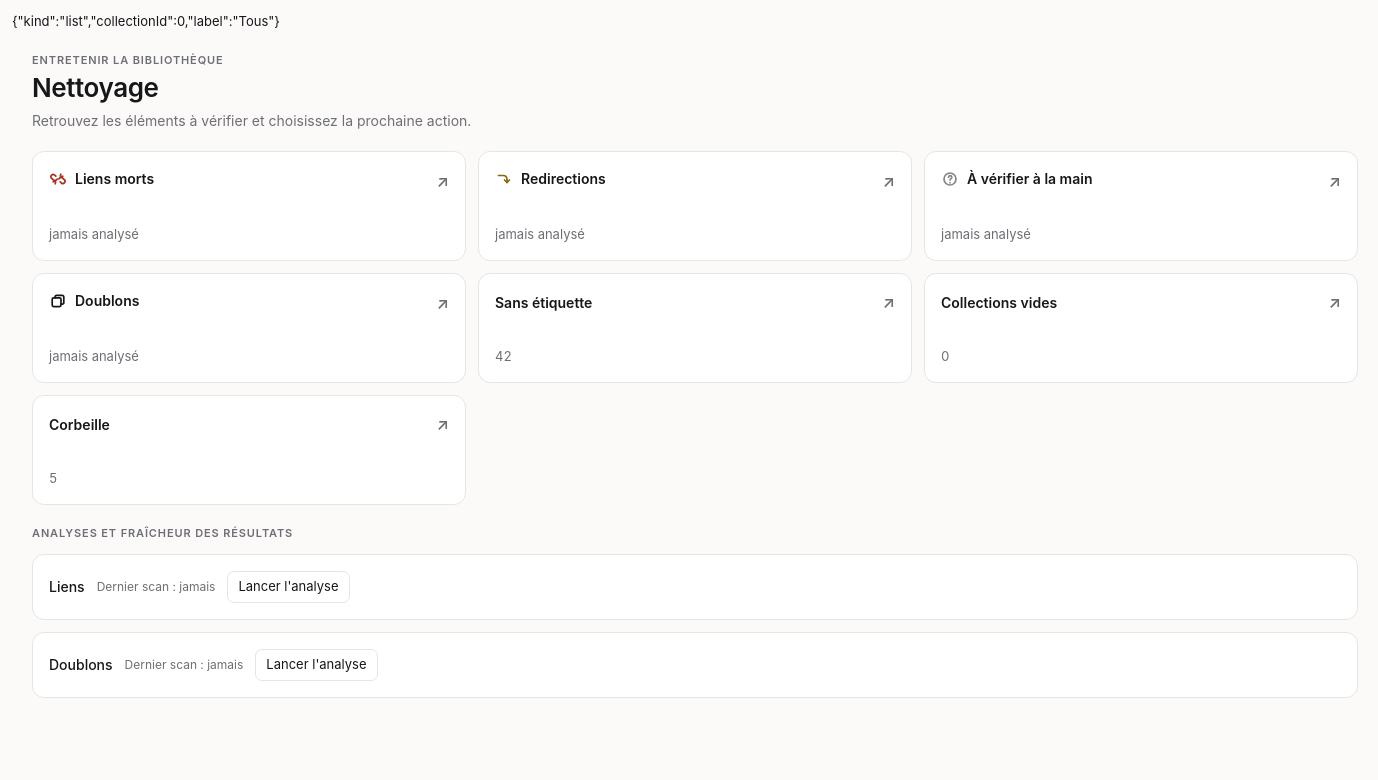
it: CleanupDashboard › Lancer appelle POST /api/analysis/scan et affiche la progression du SSE
Click the 1st button "Lancer l'analyse": (288, 586) x1=227 y1=570 x2=350 y2=602
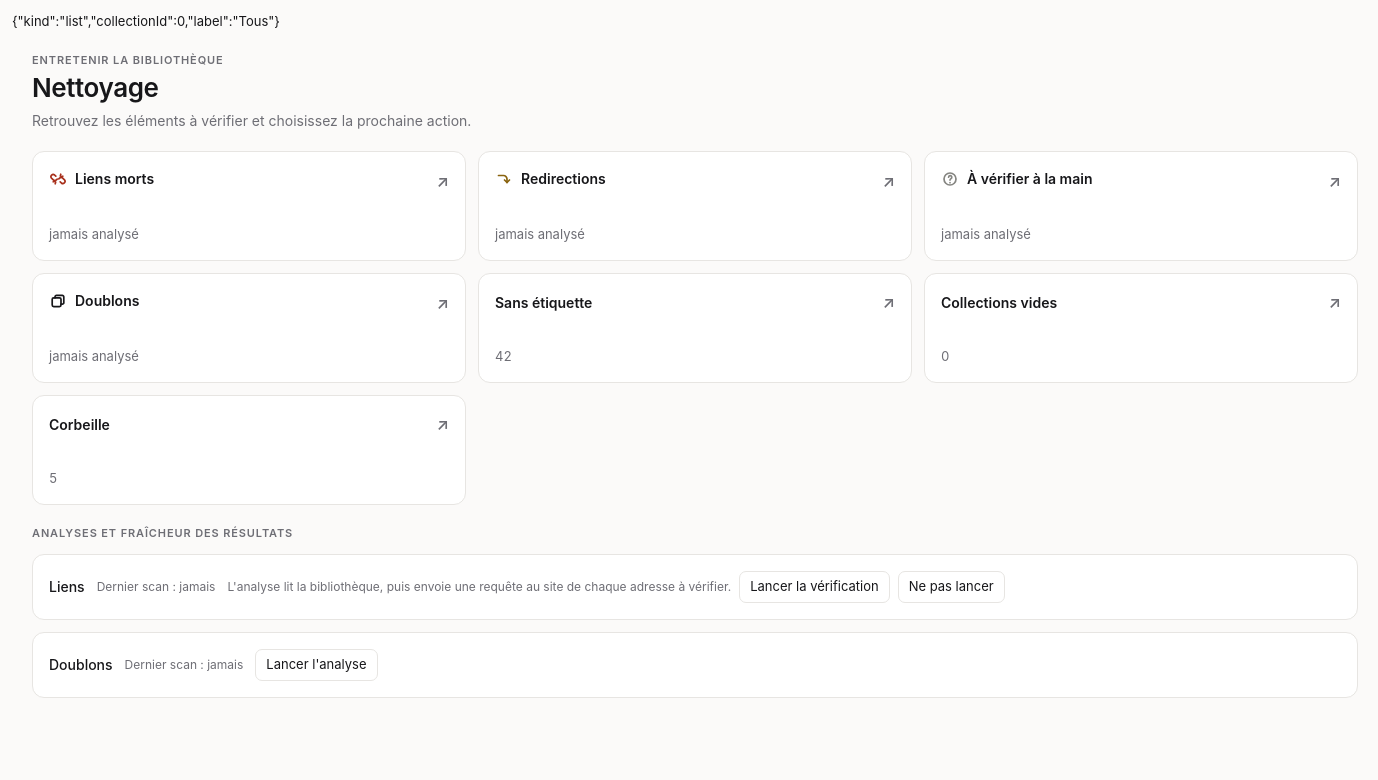
Click the button "Lancer la vérification": (814, 586) x1=739 y1=570 x2=890 y2=602
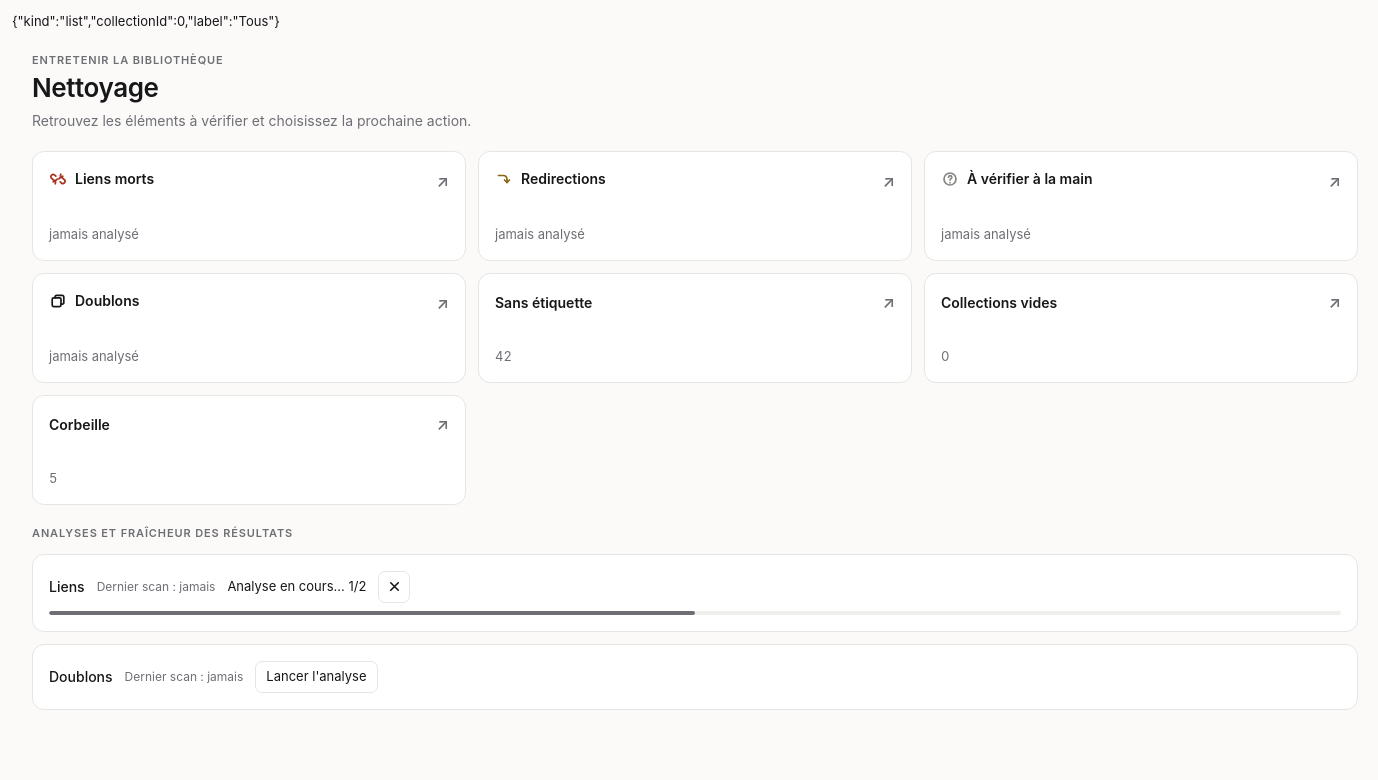
expect the text "Analyse en cours… 1/2" is shown: met, box x1=227 y1=577 x2=366 y2=596
